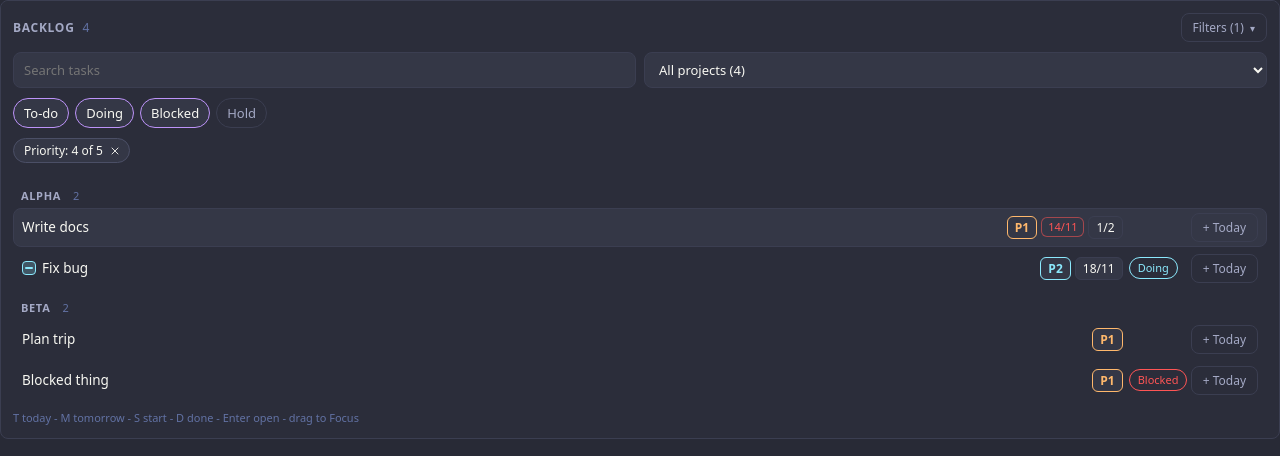
Test: BacklogPanel › narrows by search text and says when nothing matches
Type "bug" into the search field named "Search the backlog" at (324, 70), box 13,52 -> 636,88
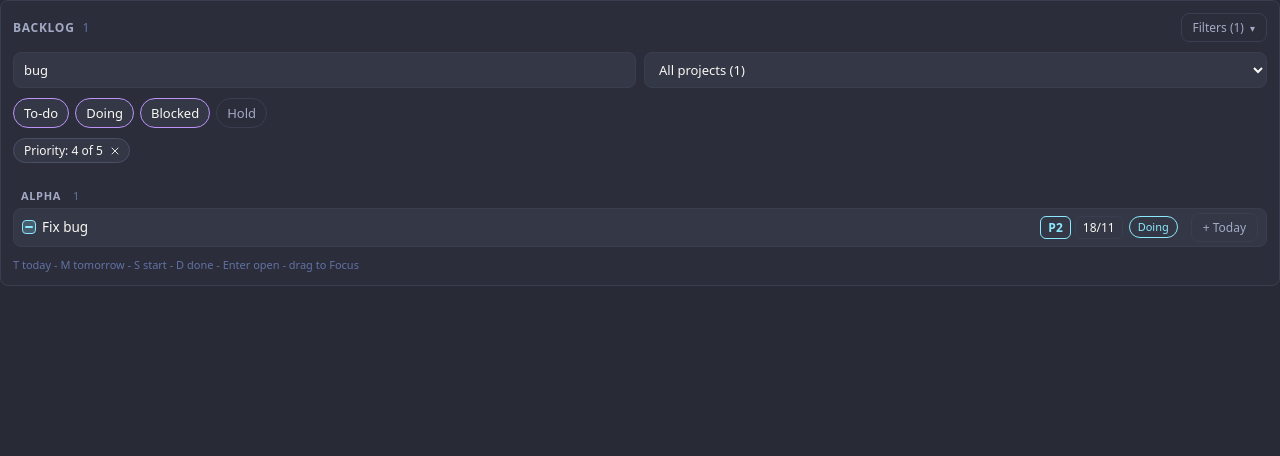
Replace the text in the search field named "Search the backlog" with "zzz" at (324, 70), box 13,52 -> 636,88
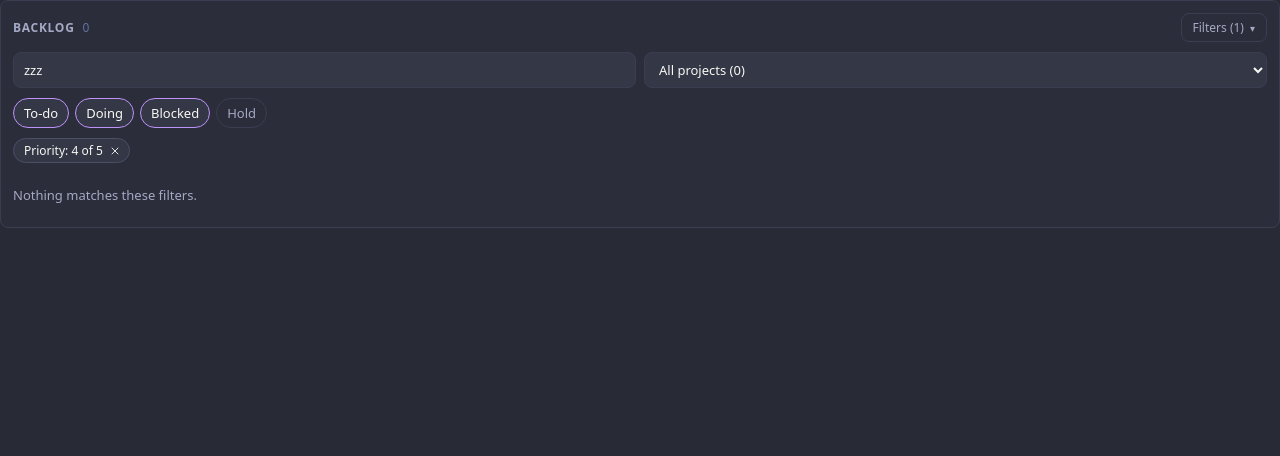
Result: the text "Nothing matches these filters." is shown at 13,186 -> 197,204
